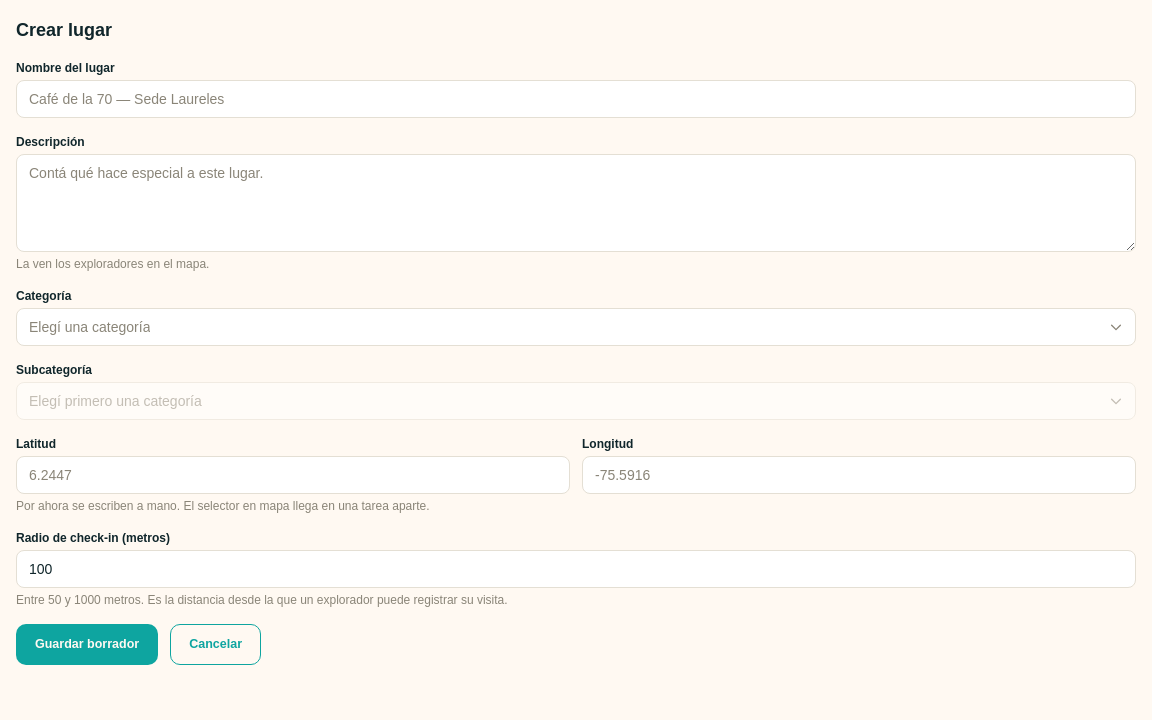
PlaceForm › ofrece solo las subcategorías de la categoría elegida
Click the dropdown labelled "categoría": (90, 327) [16, 308, 1136, 346]
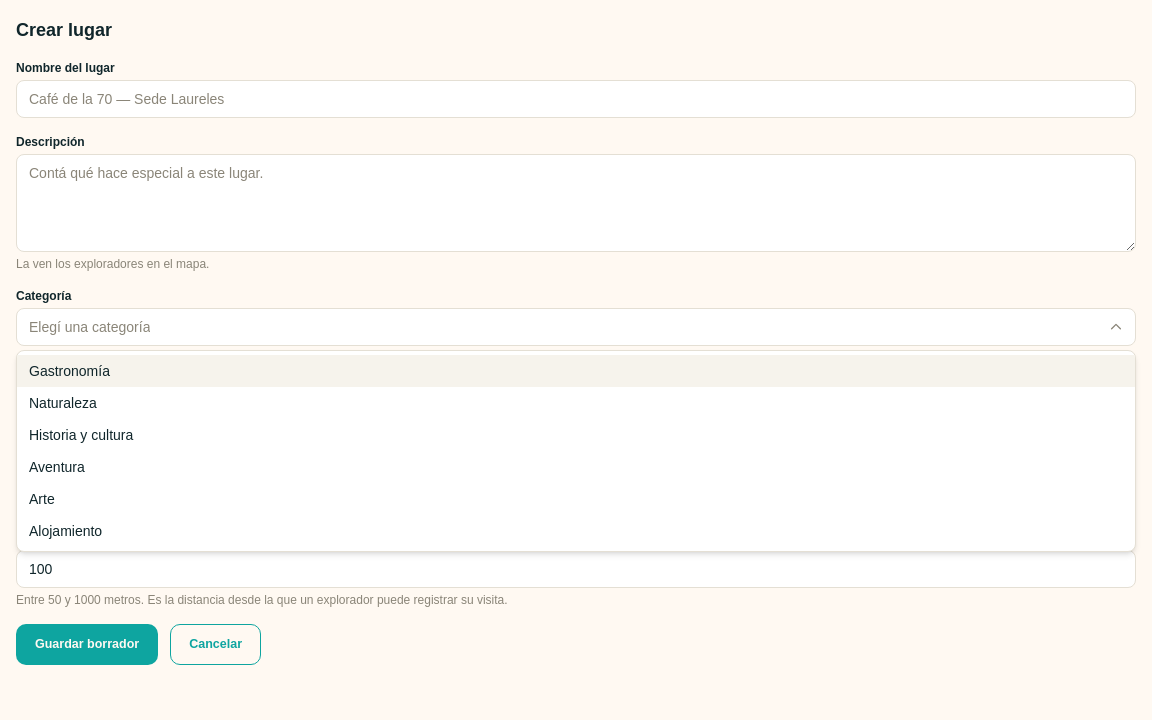
Click the option "Gastronomía": (69, 371) [17, 355, 1135, 387]
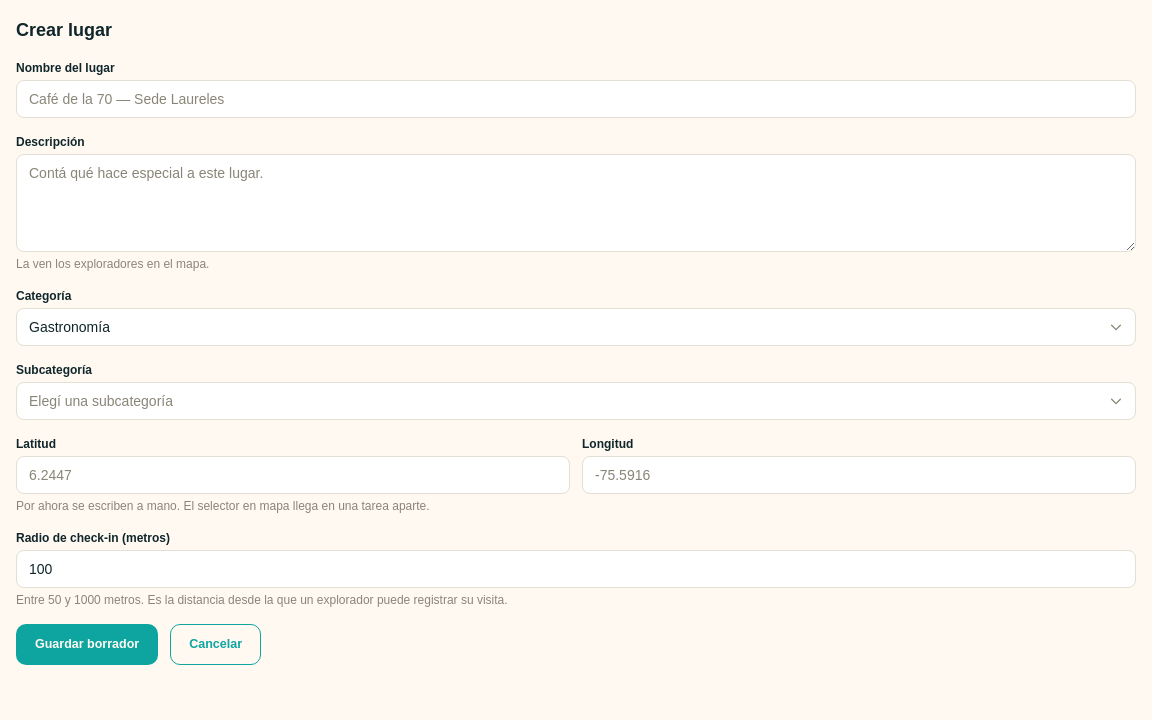
Click the dropdown labelled "subcategoría": (101, 401) [16, 382, 1136, 420]
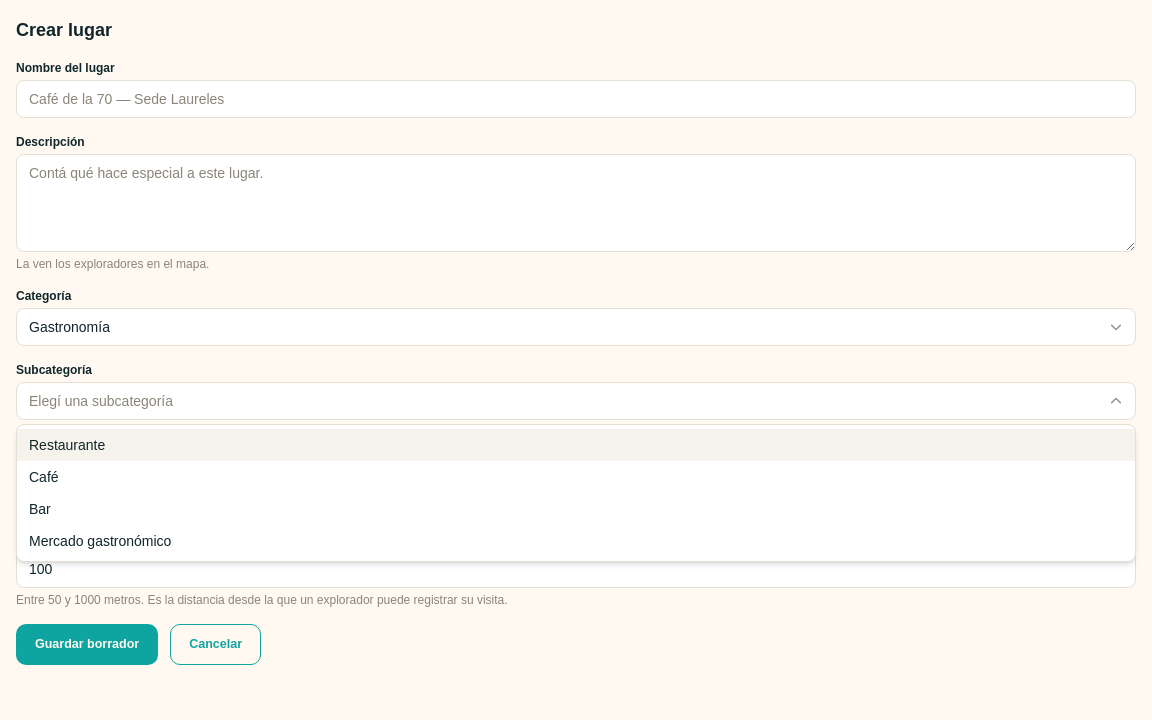
Expected: the option "Café" is shown, [29, 469, 59, 485]
